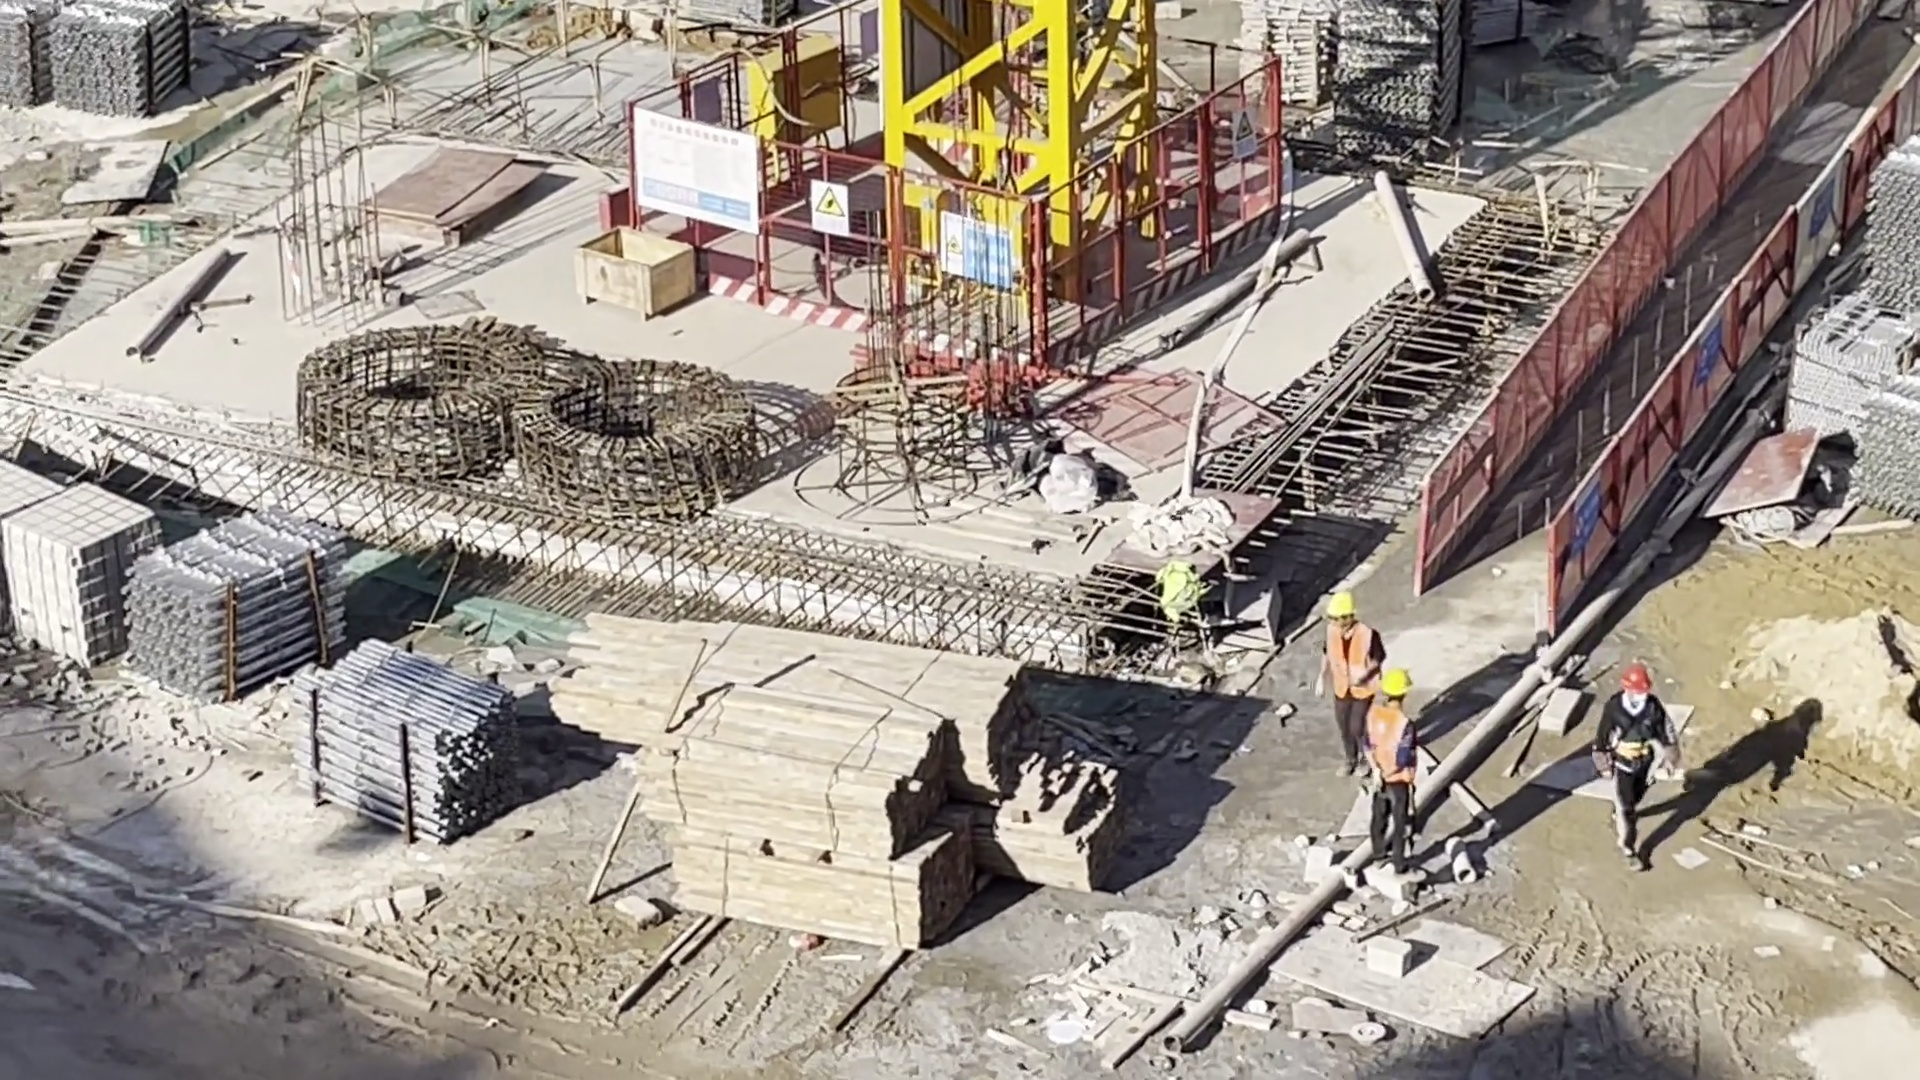board: (369, 157, 524, 243)
brick: (1, 480, 144, 657)
ebox: (747, 38, 840, 149)
fence: (1429, 8, 1920, 592)
helmet: (1380, 673, 1410, 699), (1619, 663, 1651, 689), (1326, 594, 1355, 616)
person: (1598, 662, 1675, 872), (1320, 595, 1377, 780), (1369, 672, 1411, 873)
scaffold: (302, 646, 524, 839), (124, 507, 342, 700), (1, 1, 189, 118), (1332, 1, 1461, 166), (1869, 139, 1920, 315), (1861, 376, 1920, 519), (1249, 1, 1328, 108)
slogan: (939, 222, 1011, 288), (809, 179, 848, 231), (1696, 315, 1723, 388), (1574, 474, 1601, 547), (1229, 111, 1254, 158)
vest: (1321, 629, 1374, 704), (1366, 710, 1411, 784)
wood: (575, 620, 1025, 804), (663, 704, 977, 951)
